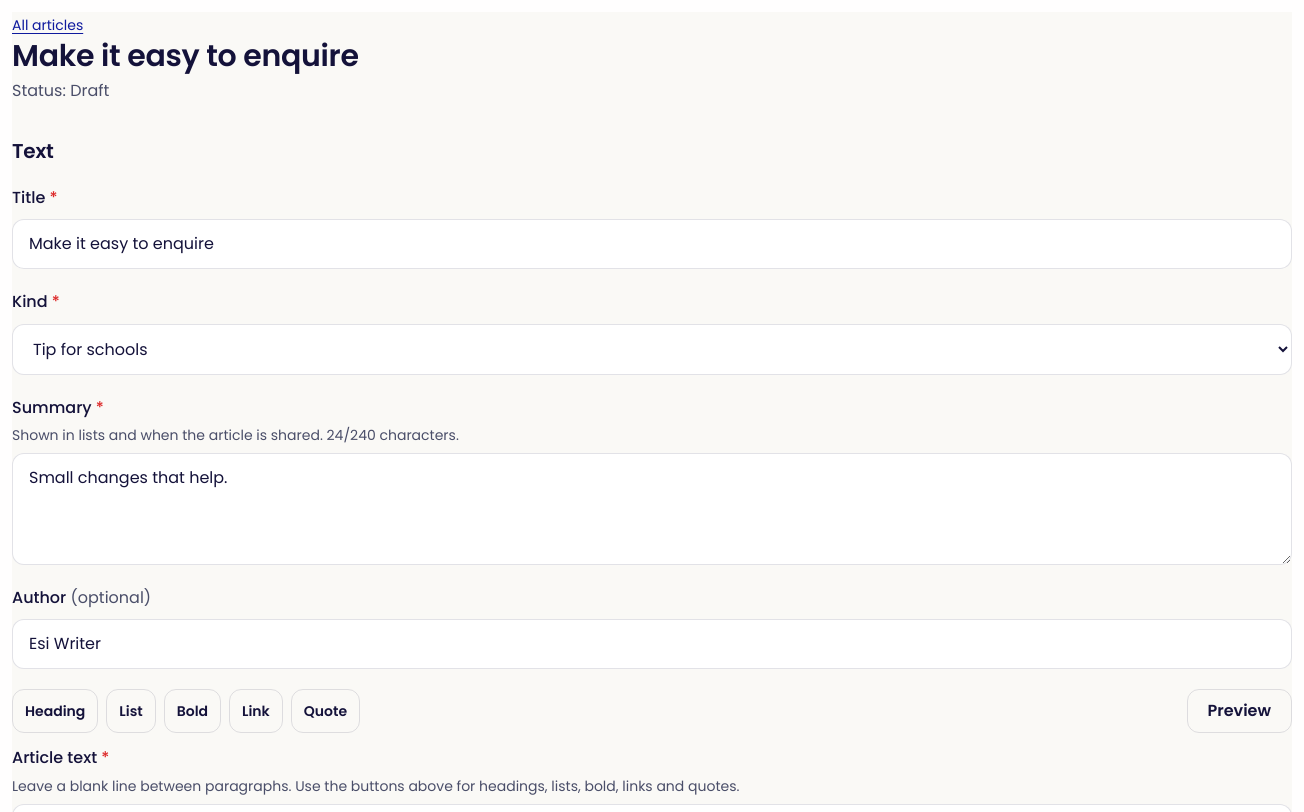
Test case: ArticleEditor › shows a preview of the text
This screenshot has width=1304, height=812.
Click the button "Preview" at [1239, 711], box 1186,689 -> 1292,733
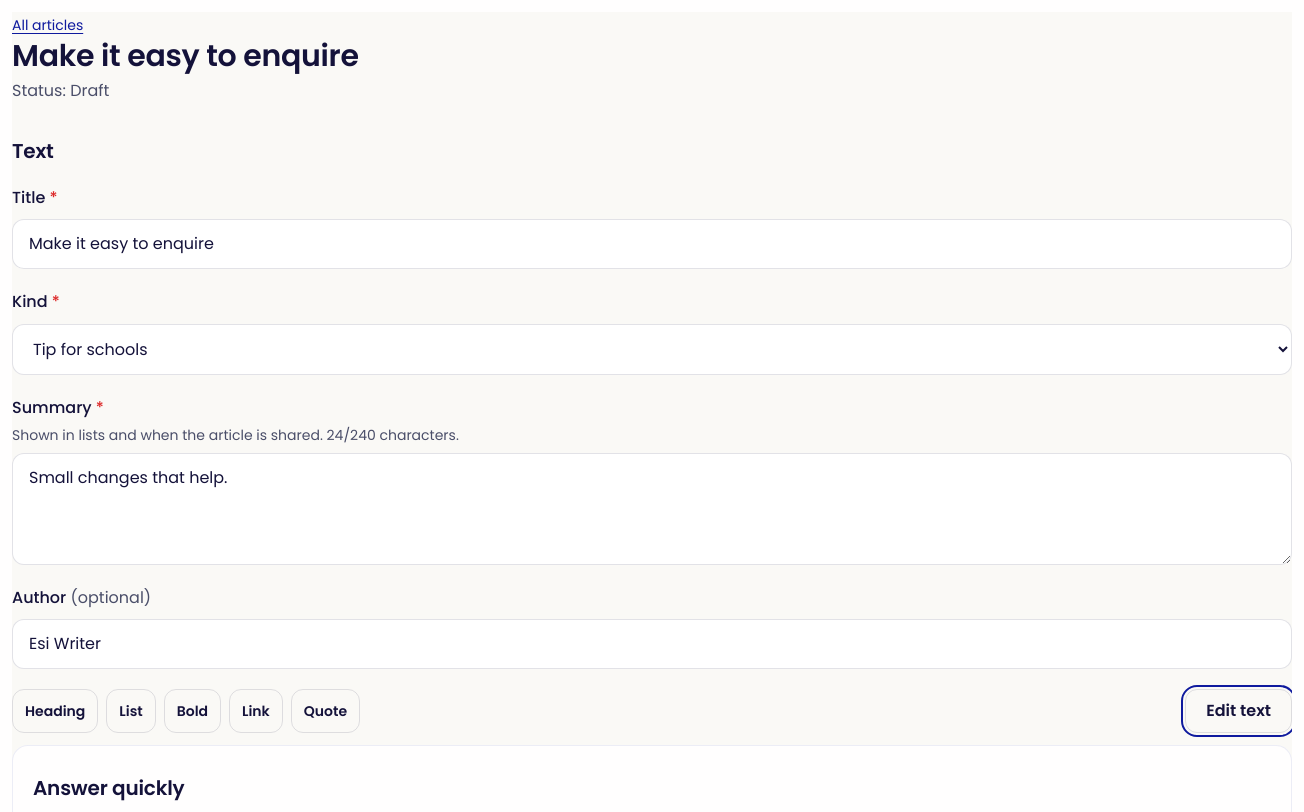
Expected: the heading "Answer quickly" is shown, 33,774 -> 184,802
